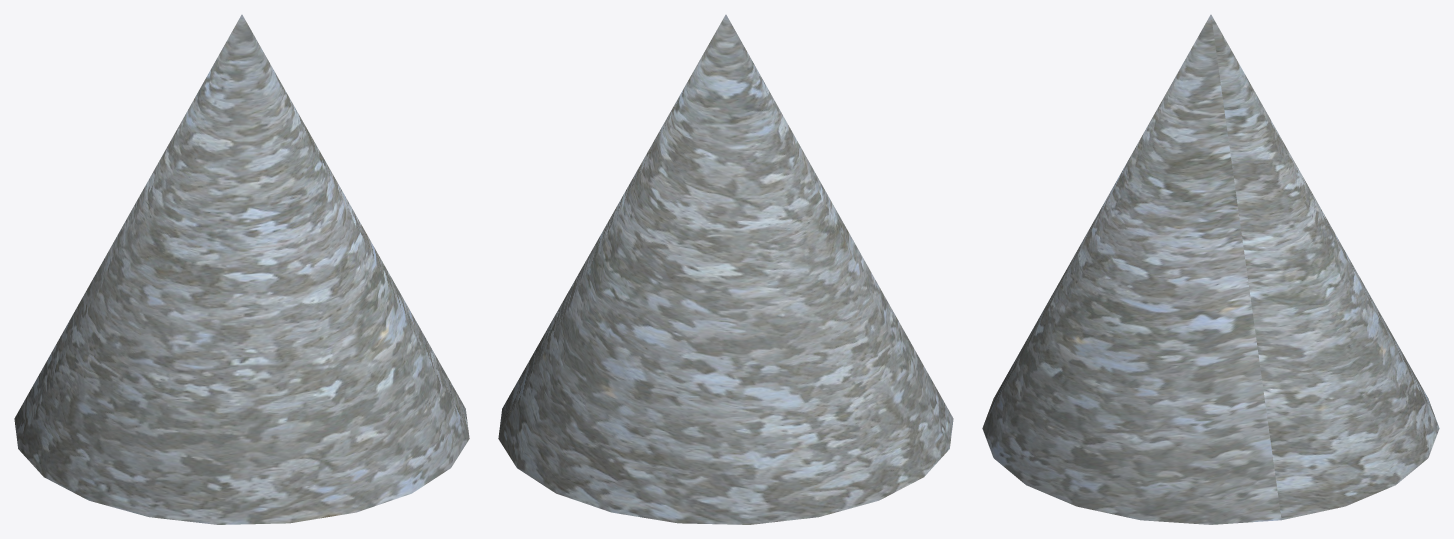
The model's file is spike.obj.
The picture shows the model from 3 angles, left to right: view 1: azimuth 30°, elevation 25°; view 2: azimuth 150°, elevation 25°; view 3: azimuth 270°, elevation 25°; orthographic projection.
Visible parts, largest first — view 1: pCone1; view 2: pCone1; view 3: pCone1.
Boxes of the visible parts, x1,y1,x2,y2 form: pCone1: (14, 14, 469, 524); pCone1: (498, 14, 953, 524); pCone1: (982, 14, 1439, 524).
Bounding box in the file's own units: 2 × 2 × 2.
Materials: 1 (1 with a texture image).
